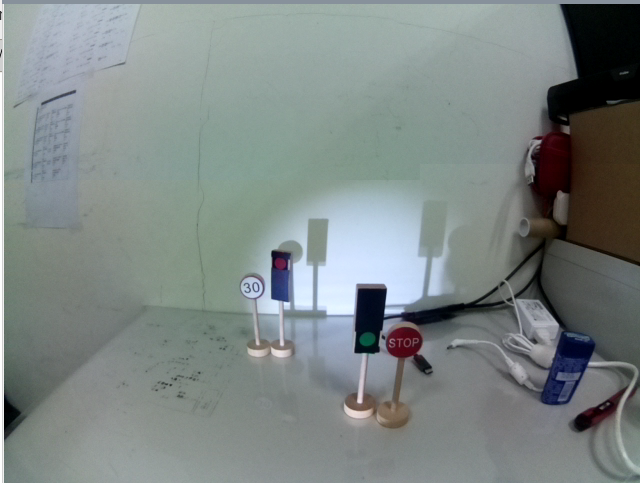Green: (349, 281, 385, 361)
Red: (269, 247, 295, 313)
Speed30: (236, 272, 266, 305)
Stop: (384, 321, 425, 363)
